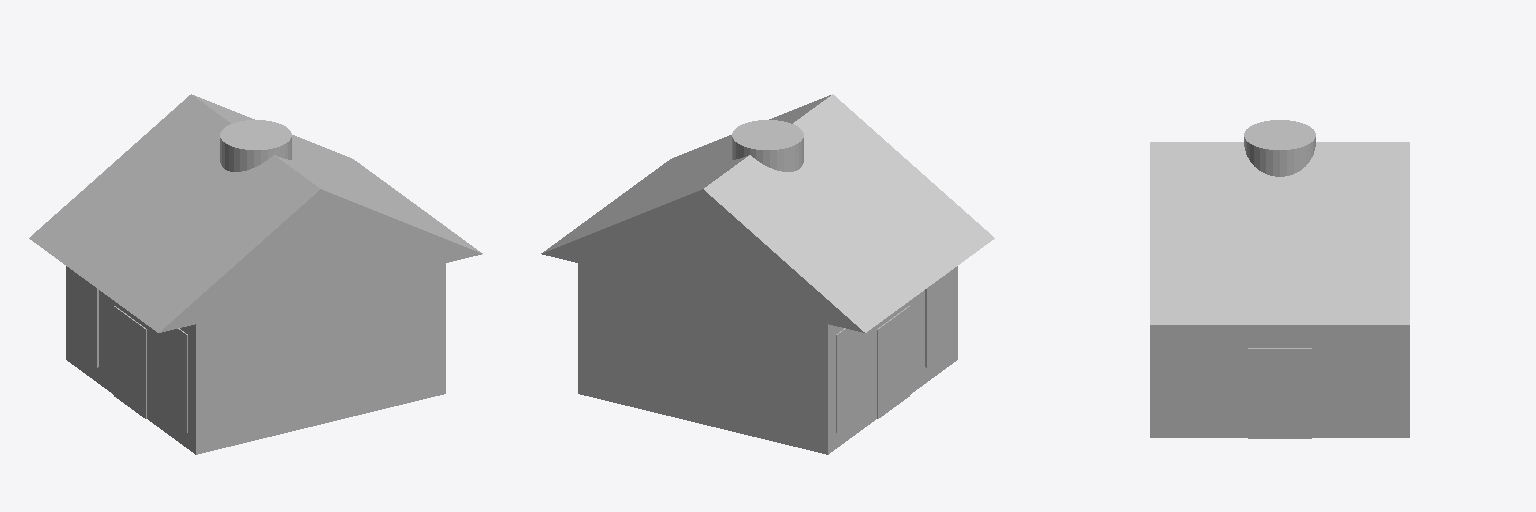
File: Monopoly House.obj
3 renders of one model, left to right at view 1: azimuth 30°, elevation 25°; view 2: azimuth 150°, elevation 25°; view 3: azimuth 270°, elevation 25°, orthographic.
Visible parts, largest first — view 1: Cube_Cube.001; view 2: Cube_Cube.001; view 3: Cube_Cube.001.
Part boxes in pixels (x1,y1,x2,y2): Cube_Cube.001: (29, 94, 482, 454); Cube_Cube.001: (541, 94, 994, 454); Cube_Cube.001: (1150, 120, 1409, 438).
Bounding box in the file's own units: 2.6 × 1.85 × 1.8.